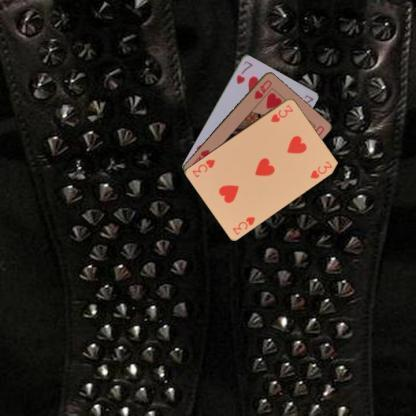3h: (230, 214, 257, 236), (268, 102, 294, 124)
7h: (233, 58, 255, 86)
Qh: (252, 76, 274, 100)
